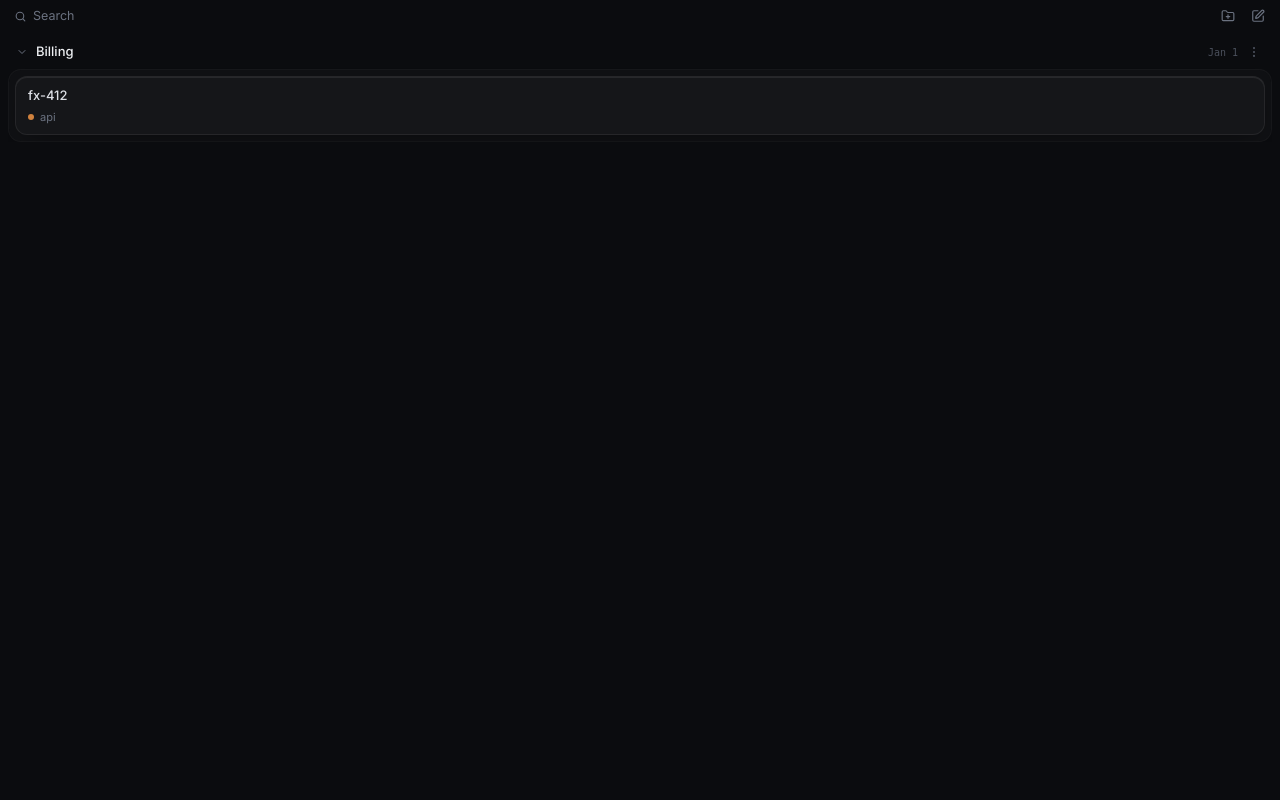
Test: SidebarBody: the active Focus › the open Focus's ⋯ menu: New worktree here (with its ticket) and Add worktrees; no Add repo button
Click the button named "Billing actions" at {"x": 1254, "y": 52}, box 1244,42 -> 1264,62
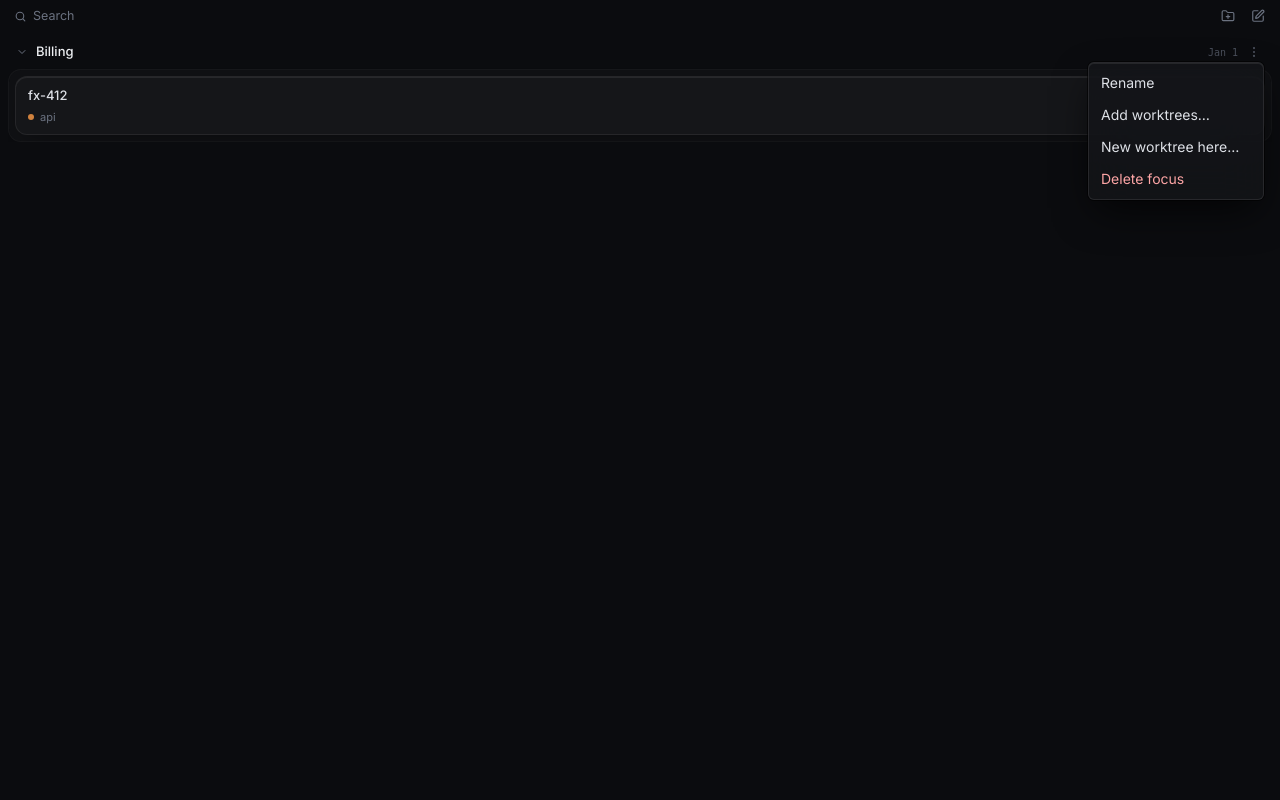
Click the button "New worktree here…" at {"x": 1176, "y": 147}, box 1093,131 -> 1259,163
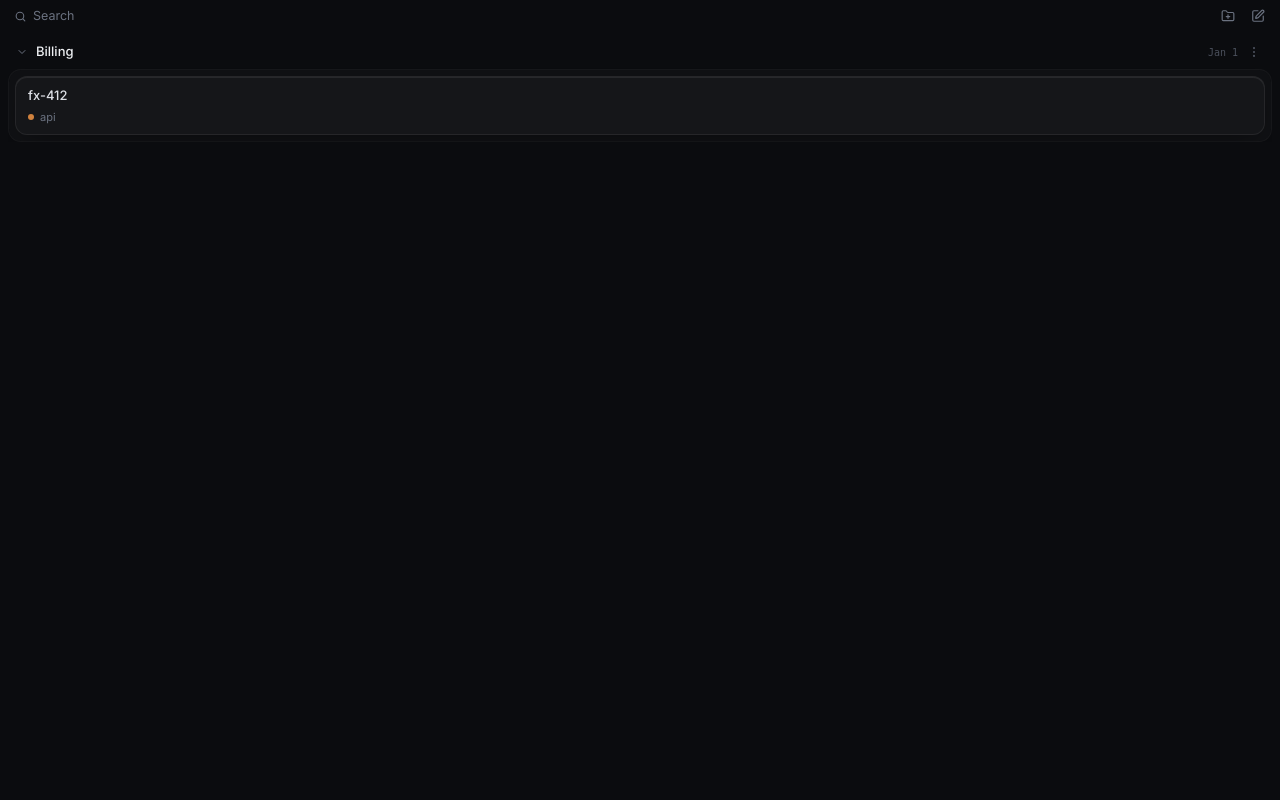
Click the button named "Billing actions" at {"x": 1254, "y": 52}, box 1244,42 -> 1264,62
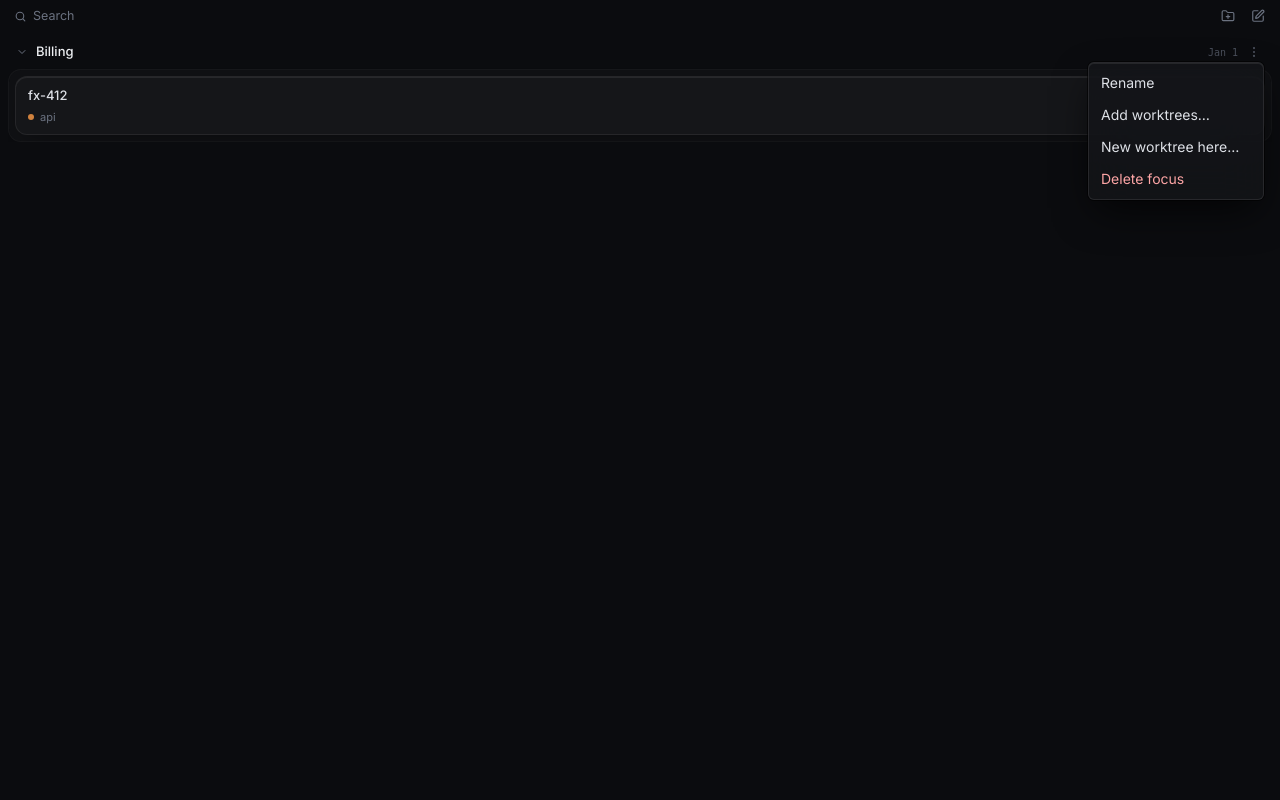
Click the button "Add worktrees…" at {"x": 1176, "y": 115}, box 1093,99 -> 1259,131
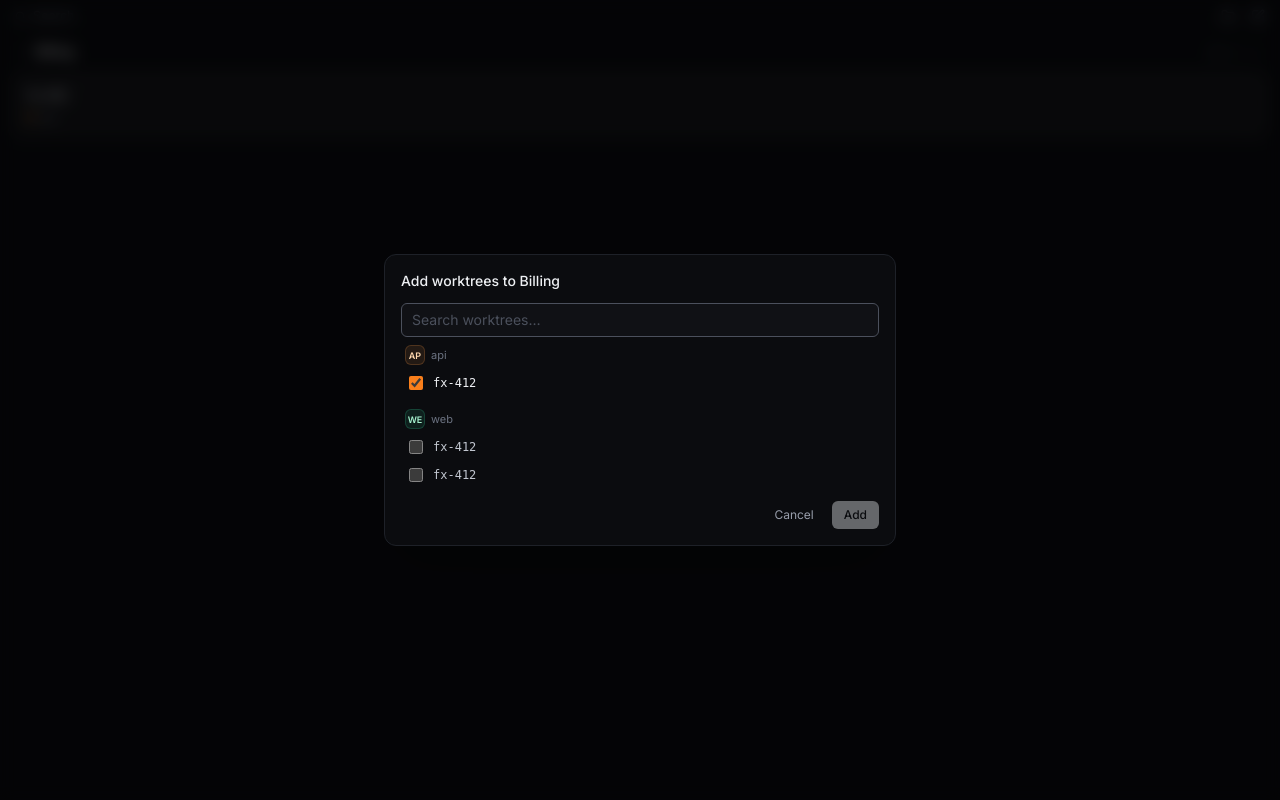
Expected: the dialog "Add worktrees to Billing" is shown, 384,254 -> 896,546
